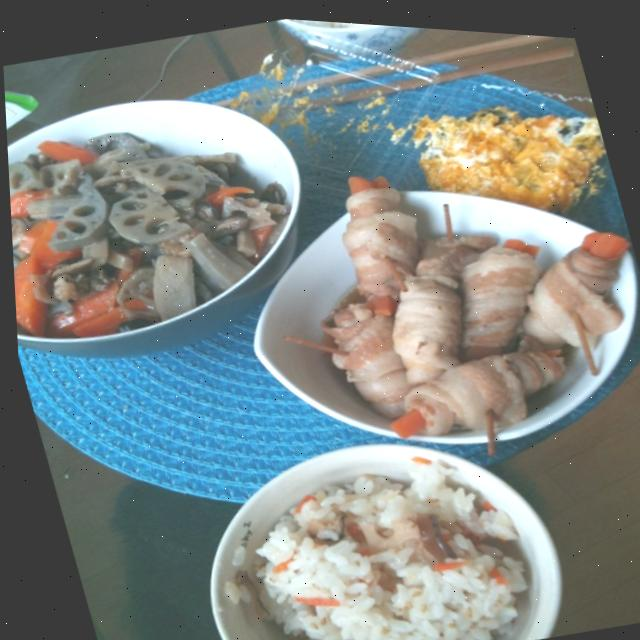米饭主食: (171, 374, 562, 640)
